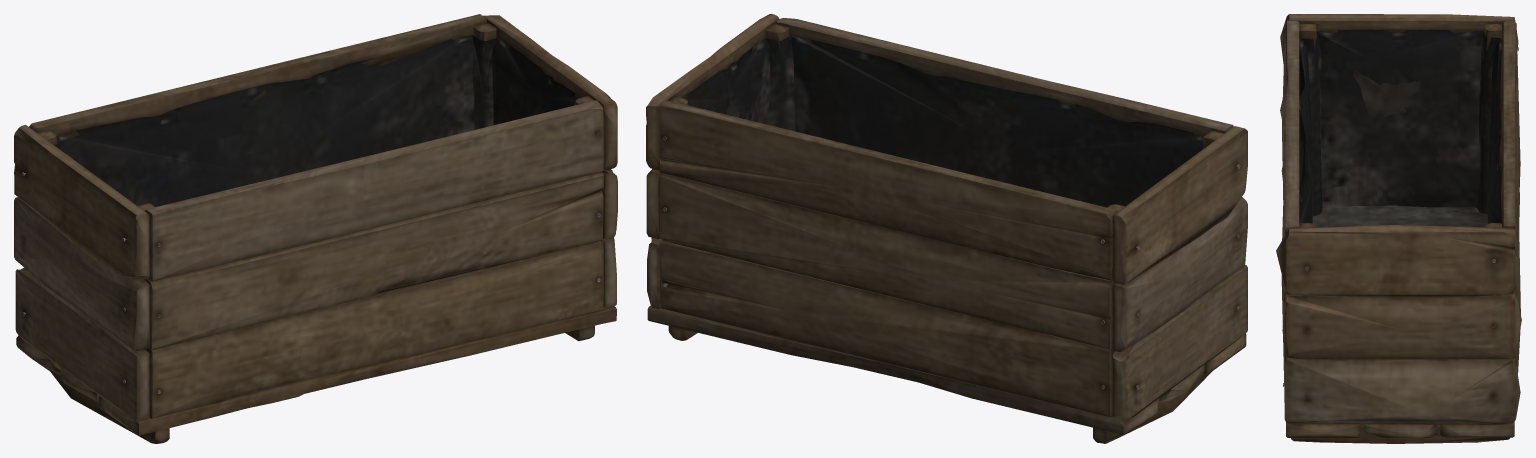
File: ph_planter.glb
3 views of the same model, side by side, from view 1: azimuth 30°, elevation 25°; view 2: azimuth 150°, elevation 25°; view 3: azimuth 270°, elevation 25° (orthographic). The views are drawn at different scales.
Bounding box in the file's own units: 0.9624 × 0.4454 × 0.4304.
1 material, 1 textured.
